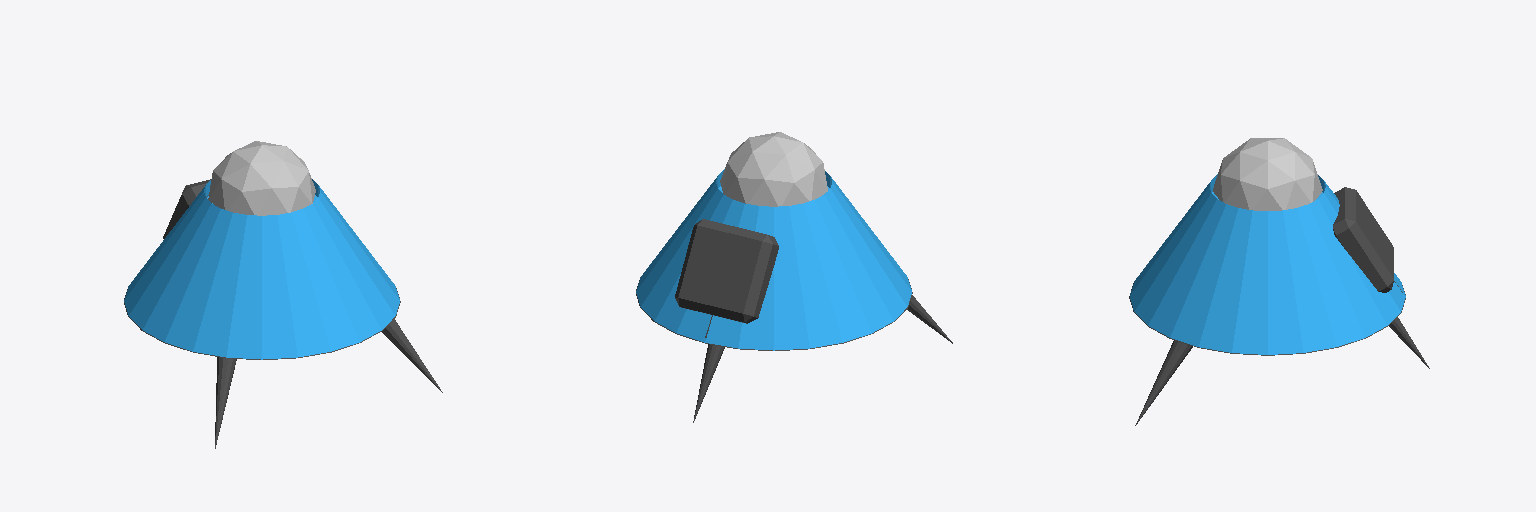
3 views of the same model, side by side, from view 1: azimuth 30°, elevation 25°; view 2: azimuth 150°, elevation 25°; view 3: azimuth 270°, elevation 25° (orthographic).
Visible parts, largest first — view 1: Cone, Icosphere; view 2: Cone, Icosphere; view 3: Cone, Icosphere.
Boxes of the visible parts, x1=… form: Cone: x1=124, y1=179, x2=442, y2=448; Icosphere: x1=208, y1=141, x2=315, y2=215; Cone: x1=636, y1=169, x2=952, y2=422; Icosphere: x1=720, y1=132, x2=827, y2=206; Cone: x1=1129, y1=174, x2=1429, y2=425; Icosphere: x1=1213, y1=138, x2=1322, y2=210.
Bounding box in the file's own units: 2 × 1.83 × 2.18.
2 materials, 1 textured.